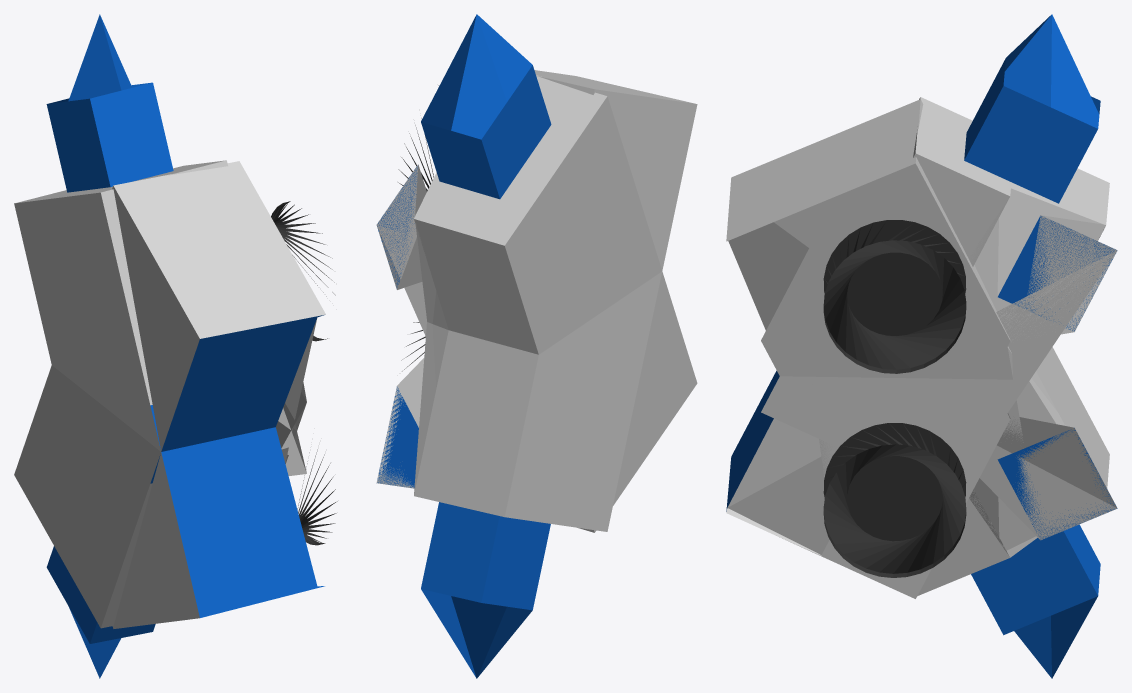
Rendered from end stage door .fbx.
3 views of the same model, side by side, from view 1: azimuth 30°, elevation 25°; view 2: azimuth 150°, elevation 25°; view 3: azimuth 270°, elevation 25° (orthographic).
Parts seen in each view (by area): view 1: Cube.001, Cube; view 2: Cube.001; view 3: Cube.001, Cube.
Part boxes in pixels (x1,y1,x2,y2): Cube.001: (14,14,325,678); Cube: (271,201,337,545); Cube.001: (376,14,697,678); Cube.001: (726,14,1117,678); Cube: (823,220,966,577).
Bounding box in the file's own units: 321 × 1027 × 548.
